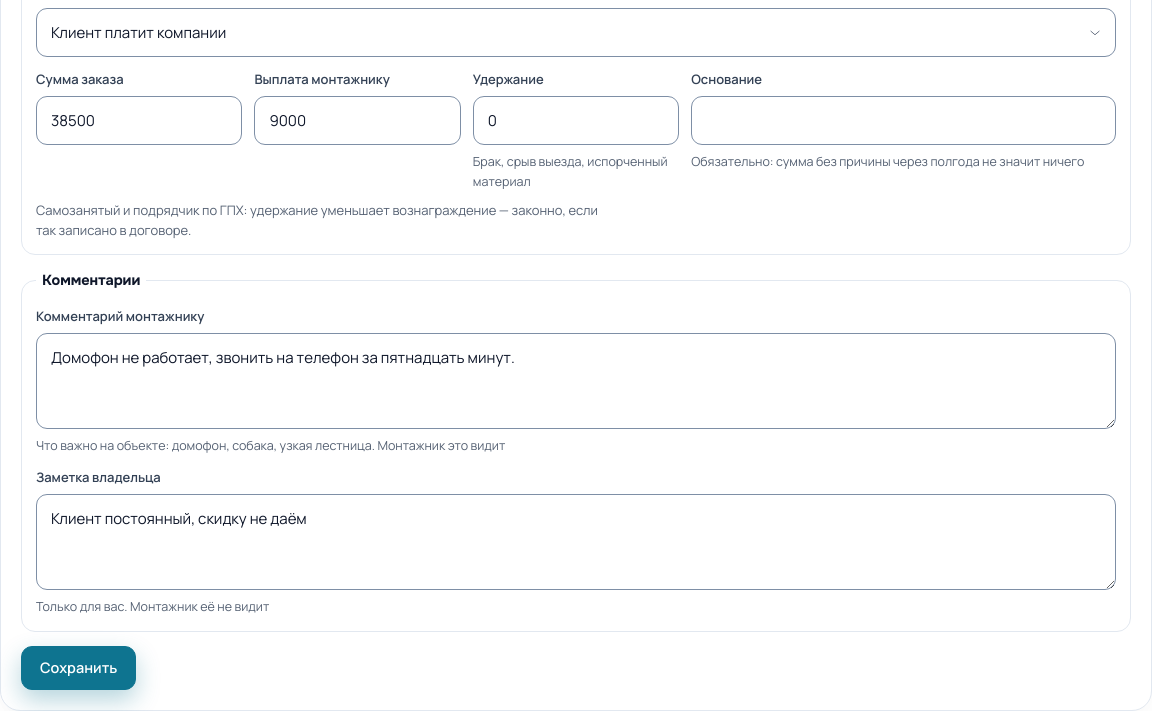
Test: Форма наряда › кнопка блокируется на время отправки
(page scrolled)
Click the button "Сохранить" at [79, 668], box [21,646,136,690]
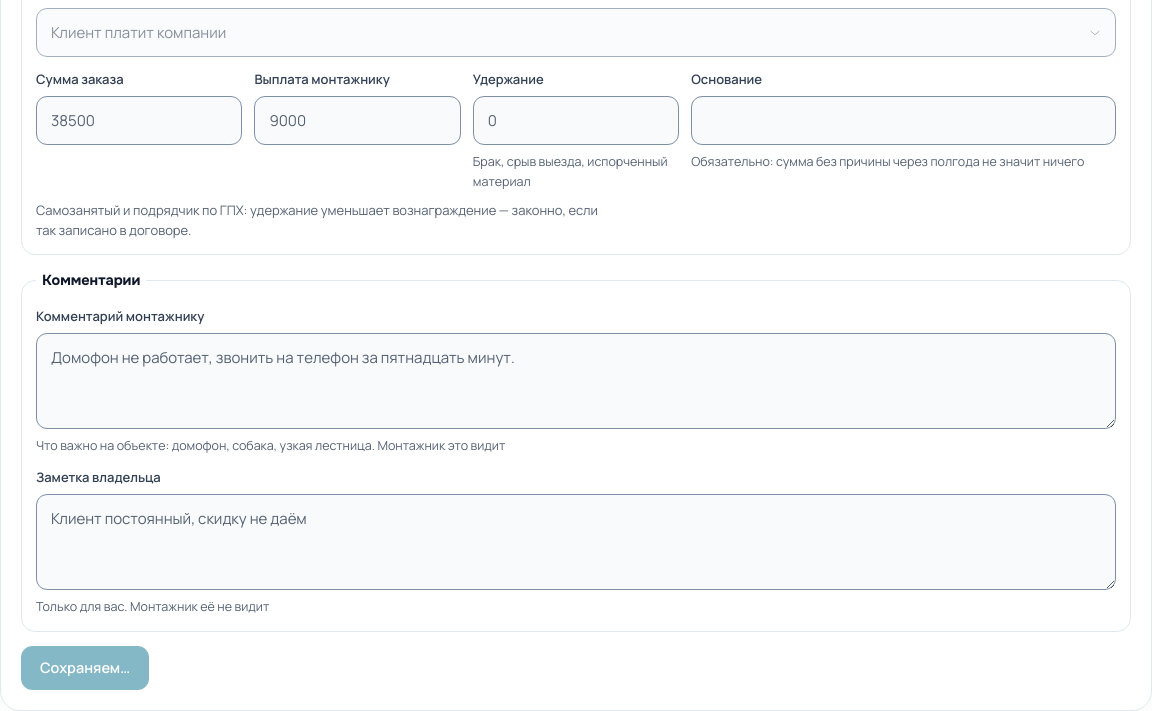
Now the button "Сохраняем…" is disabled, box [21,646,149,690]
